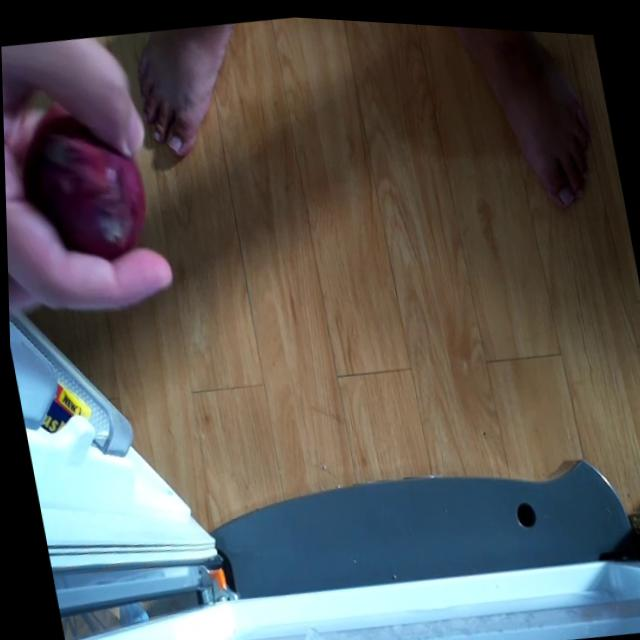onion: (16, 107, 147, 262)
